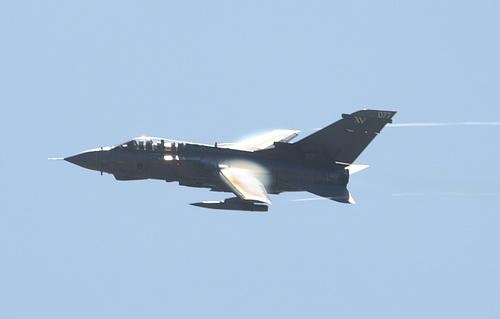aeroplane: (47, 108, 398, 213)
